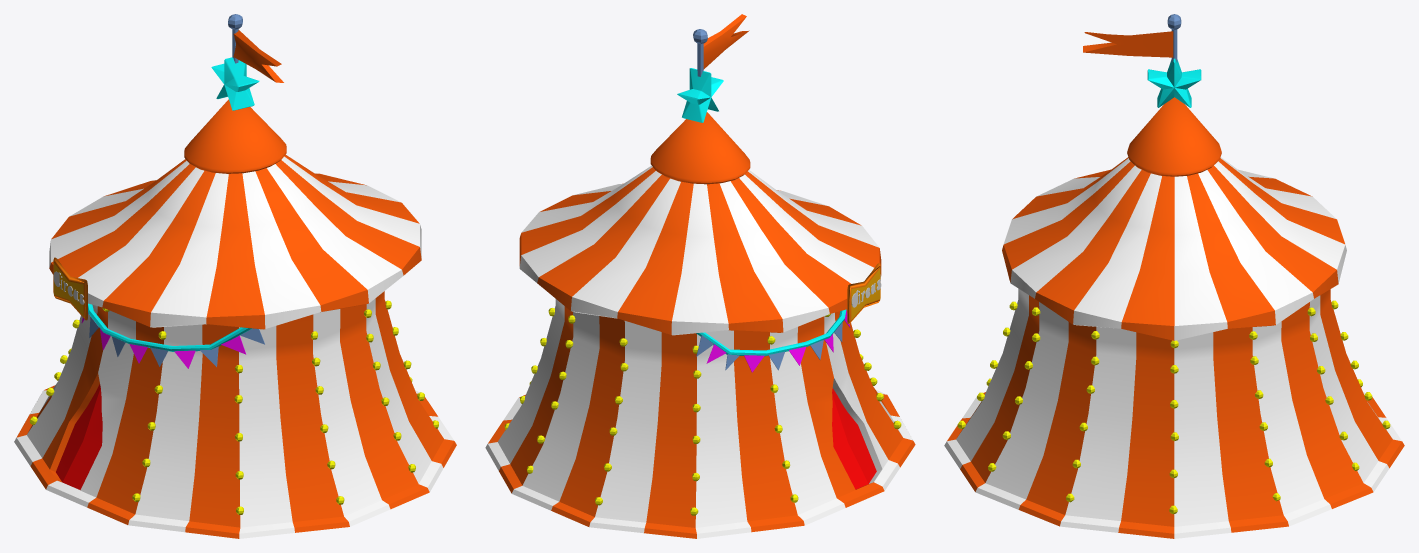
The model's file is BigTent.fbx.
3 renders of one model, left to right at view 1: azimuth 30°, elevation 25°; view 2: azimuth 150°, elevation 25°; view 3: azimuth 270°, elevation 25°, orthographic. The views are drawn at different scales.
Parts seen in each view (by area): view 1: BigTentBody, BigTentRoof, BigTentRoofTopper, Star27, Rope, Flag1, CircusPlacard; view 2: BigTentBody, BigTentRoof, BigTentRoofTopper, Star27, Flag1, Rope, CircusPlacard; view 3: BigTentBody, BigTentRoof, BigTentRoofTopper, Flag1, Star27.
Boxes of the visible parts, x1=… form: BigTentBody: x1=14, y1=291, x2=456, y2=538; BigTentRoof: x1=49, y1=154, x2=421, y2=329; BigTentRoofTopper: x1=184, y1=99, x2=286, y2=173; Star27: x1=211, y1=57, x2=259, y2=110; Rope: x1=88, y1=303, x2=252, y2=351; Flag1: x1=233, y1=30, x2=283, y2=82; CircusPlacard: x1=53, y1=257, x2=87, y2=320; BigTentBody: x1=485, y1=299, x2=915, y2=538; BigTentRoof: x1=519, y1=165, x2=881, y2=335; BigTentRoofTopper: x1=650, y1=112, x2=750, y2=184; Star27: x1=677, y1=68, x2=723, y2=122; Flag1: x1=703, y1=14, x2=749, y2=69; Rope: x1=696, y1=309, x2=846, y2=356; CircusPlacard: x1=847, y1=263, x2=880, y2=323; BigTentBody: x1=944, y1=288, x2=1404, y2=538; BigTentRoof: x1=1002, y1=157, x2=1346, y2=340; BigTentRoofTopper: x1=1127, y1=97, x2=1221, y2=176; Flag1: x1=1083, y1=31, x2=1173, y2=57; Star27: x1=1147, y1=58, x2=1201, y2=107.
Size of the model in its own units: 6.29 by 6.8 by 6.58.
